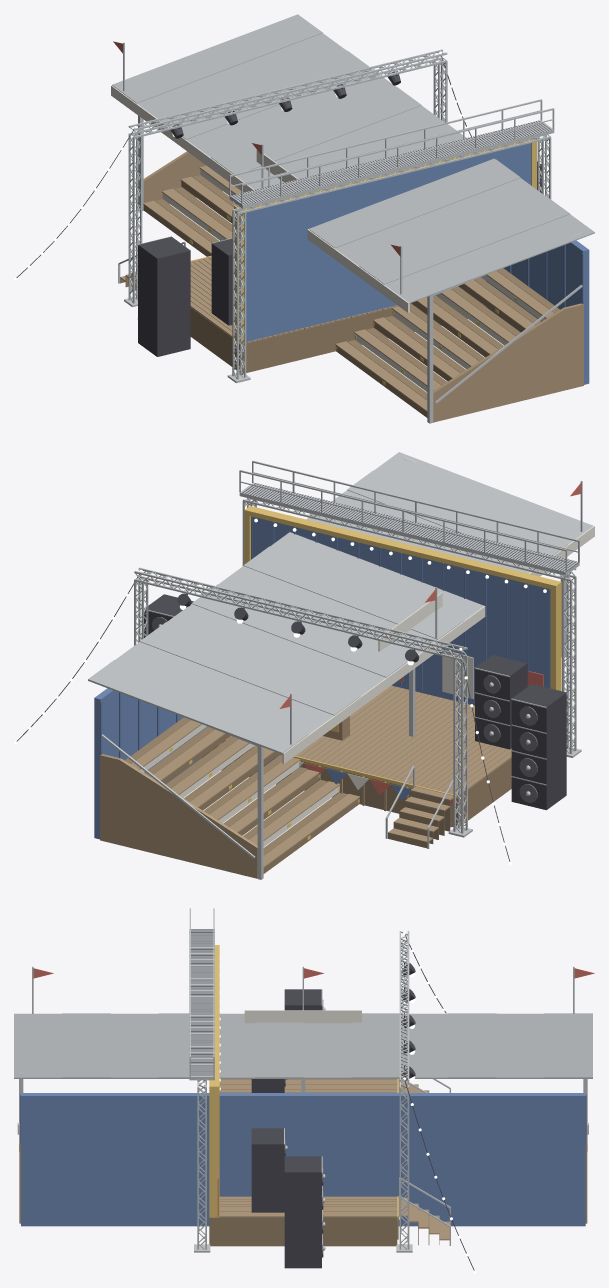
File: fair_stage.glb
3 renders of one model, top to bottom at view 1: azimuth 30°, elevation 25°; view 2: azimuth 150°, elevation 25°; view 3: azimuth 270°, elevation 25°, orthographic. The views are drawn at different scales.
Parts seen in each view (by area): view 1: ff_grandstand_mesh, ff_stage_mesh; view 2: ff_grandstand_mesh, ff_stage_mesh; view 3: ff_grandstand_mesh, ff_stage_mesh.
Part boxes in pixels (<box>): ff_grandstand_mesh: <box>111,14,594,423</box>; ff_stage_mesh: <box>14,49,554,383</box>; ff_grandstand_mesh: <box>88,452,594,879</box>; ff_stage_mesh: <box>14,460,581,864</box>; ff_grandstand_mesh: <box>14,966,594,1226</box>; ff_stage_mesh: <box>189,908,476,1273</box>.
Bounding box in the file's own units: 22.72 × 9.12 × 24.7.
